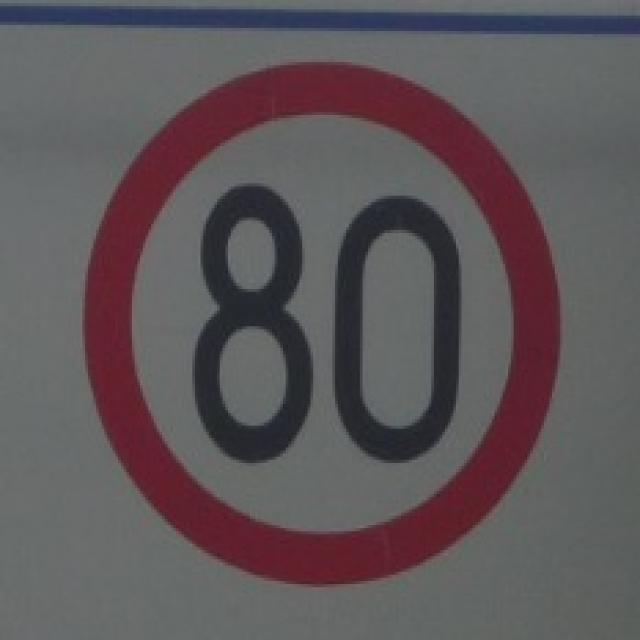Speed Limit -80-: (189, 178, 469, 472)
